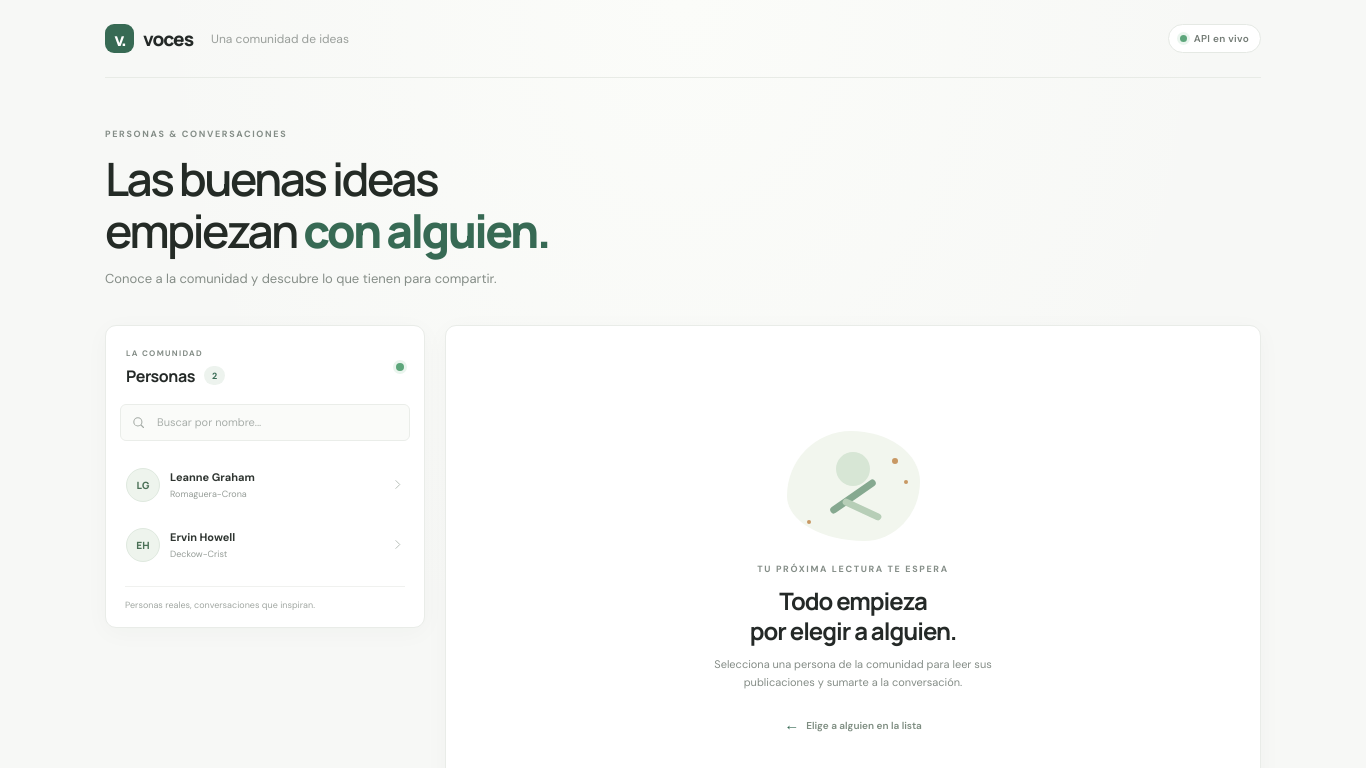
Test: Voces › filtra usuarios por nombre sin distinguir mayúsculas
The width and height of the screenshot is (1366, 768).
Expected: the button "LG Leanne Graham Romaguera-Crona" is shown, [116,456,414,514]
Type "ERVIN" into the search field named "Buscar usuarios" at (277,422), box [155,414,399,430]
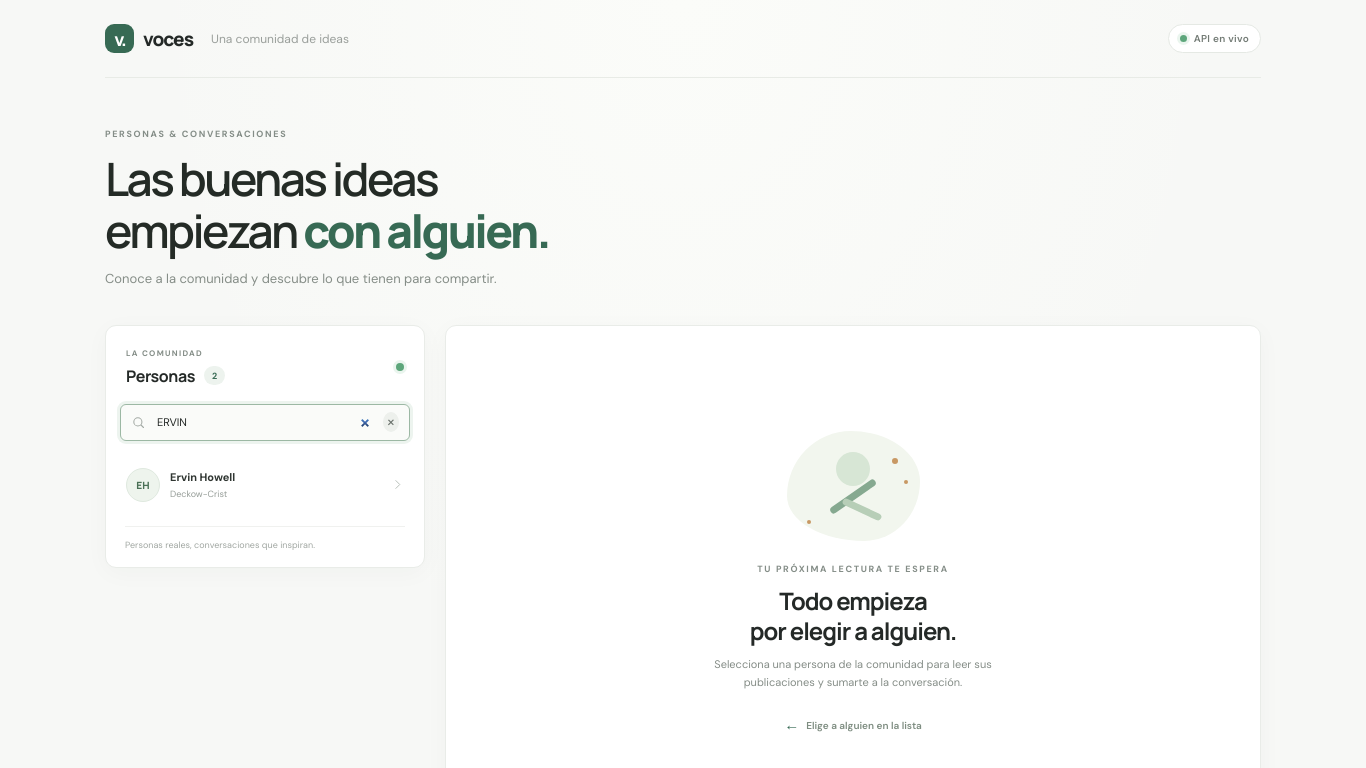
Expected: the button "EH Ervin Howell Deckow-Crist" is shown, [116,456,414,514]
Now the button "Leanne Graham" is gone
